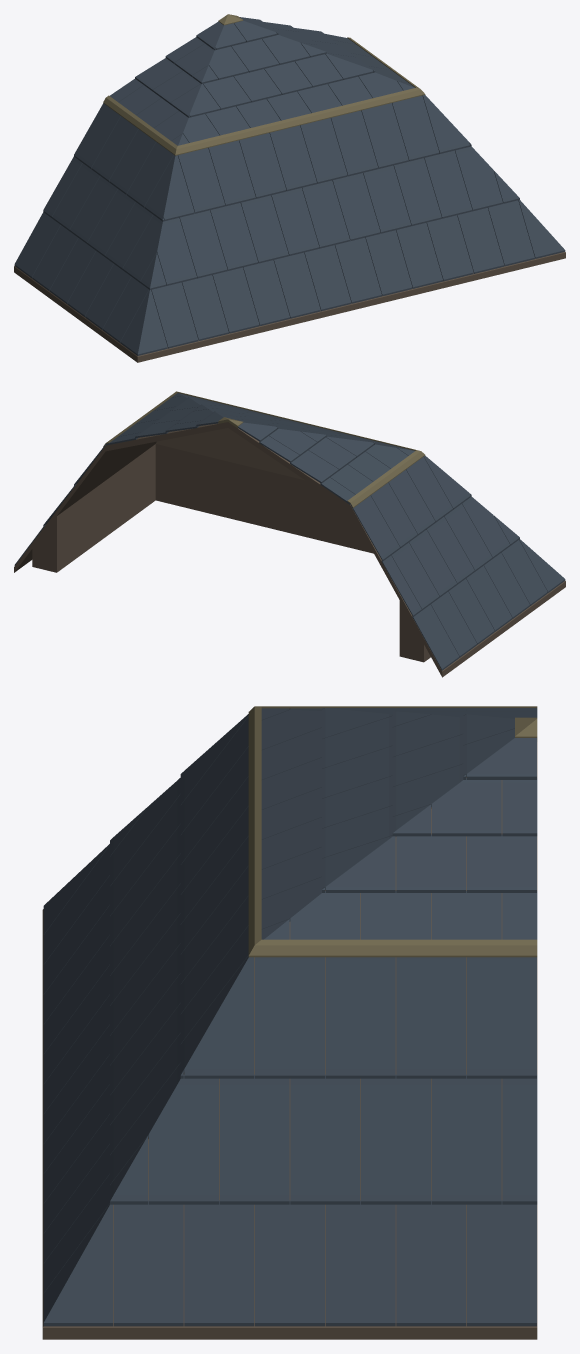
The model's file is rpg-mansion-mansard-hipped-end-01.glb.
3 views of the same model, one above another, from view 1: azimuth 30°, elevation 25°; view 2: azimuth 150°, elevation 25°; view 3: azimuth 270°, elevation 25° (orthographic). The views are drawn at different scales.
Visible parts, largest first — view 1: rpg-mansion-mansard-hipped-end-01; view 2: rpg-mansion-mansard-hipped-end-01; view 3: rpg-mansion-mansard-hipped-end-01.
Boxes of the visible parts, left/top/right/bottom form: rpg-mansion-mansard-hipped-end-01: left=14, top=14, right=565, bottom=362; rpg-mansion-mansard-hipped-end-01: left=14, top=391, right=565, bottom=677; rpg-mansion-mansard-hipped-end-01: left=42, top=706, right=537, bottom=1339.
Size of the model in its own units: 4.2 by 1.93 by 2.1.
